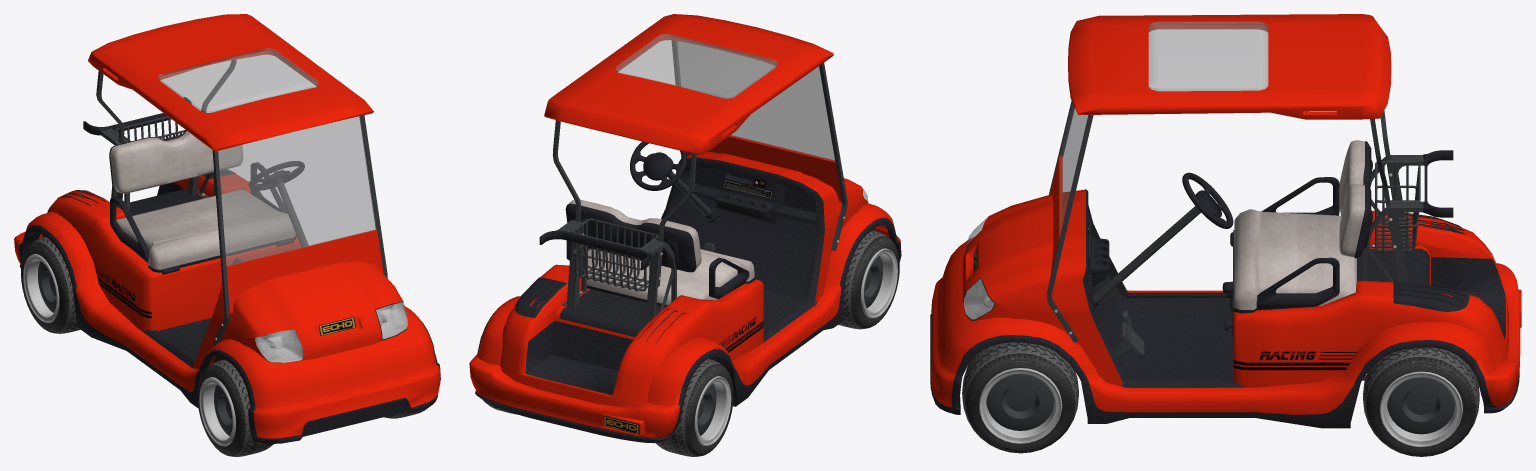
Rendered from GolfCart.fbx.
3 renders of one model, left to right at view 1: azimuth 30°, elevation 25°; view 2: azimuth 150°, elevation 25°; view 3: azimuth 270°, elevation 25°, orthographic. The views are drawn at different scales.
Parts seen in each view (by area): view 1: spoilers, roof, window1, body_rear, body_front, lower_seat, sun_roof, upper_seat, window_support, roof_support, front_right_tyre, rear_right_tyre (+14 smaller); view 2: body_rear, roof, spoilers, inner_panel, window1, sun_roof, upper_seat, lower_seat, body_front, basket, roof_support, window_support (+11 smaller); view 3: spoilers, roof, body_rear, body_front, inner_panel, lower_seat, sun_roof, front_left_tyre, rear_left_tyre, upper_seat, rear_left_rimm_cover, front_left_rimm_cover (+14 smaller).
Boxes of the visible parts, box(x1,y1,x2,y2) form: spoilers: box(14, 211, 440, 443); roof: box(88, 14, 373, 151); window1: box(218, 116, 376, 266); body_rear: box(41, 174, 300, 330); body_front: box(193, 261, 407, 369); lower_seat: box(116, 190, 295, 272); sun_roof: box(158, 48, 318, 112); upper_seat: box(109, 130, 242, 193); window_support: box(226, 229, 383, 313); roof_support: box(96, 60, 387, 345); front_right_tyre: box(197, 359, 273, 456); rear_right_tyre: box(21, 236, 80, 333); body_rear: box(500, 264, 763, 401); roof: box(544, 14, 833, 154); spoilers: box(469, 203, 901, 443); inner_panel: box(663, 157, 824, 342); window1: box(676, 41, 834, 161); sun_roof: box(615, 34, 777, 98); upper_seat: box(565, 199, 701, 272); lower_seat: box(586, 249, 755, 307); body_front: box(687, 152, 868, 302); basket: box(571, 218, 658, 291); roof_support: box(552, 40, 847, 286); window_support: box(686, 135, 841, 202); spoilers: box(930, 237, 1520, 428); roof: box(1068, 14, 1391, 119); body_rear: box(1233, 210, 1507, 387); body_front: box(962, 189, 1123, 385); inner_panel: box(1082, 189, 1244, 387); lower_seat: box(1233, 209, 1357, 313); sun_roof: box(1148, 21, 1268, 91); front_left_tyre: box(962, 342, 1078, 453); rear_left_tyre: box(1363, 347, 1479, 456); upper_seat: box(1339, 140, 1372, 258); rear_left_rimm_cover: box(1387, 377, 1455, 434); front_left_rimm_cover: box(986, 374, 1054, 430).
Size of the model in its own units: 15.14 by 19.84 by 30.66.
14 materials, 11 textured.
